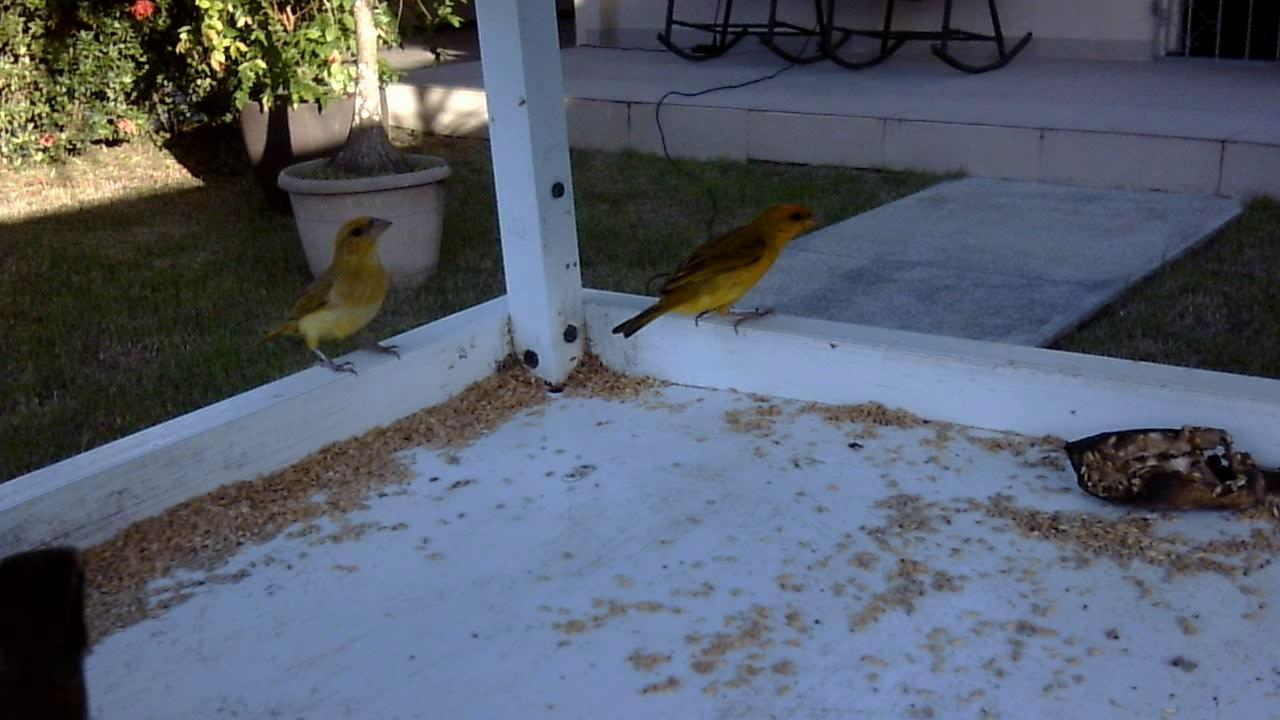canario_do_amazonas: (605, 201, 822, 351), (250, 214, 406, 389)
